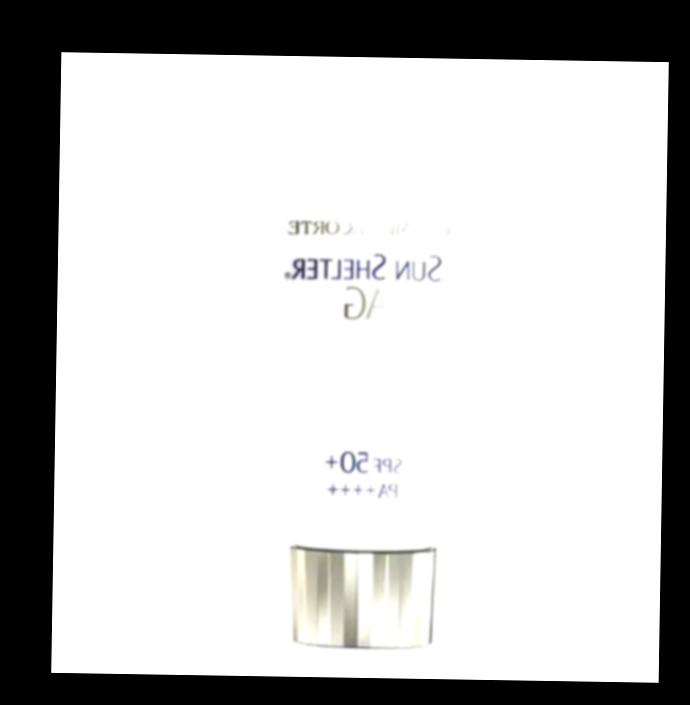cosmetic: (258, 103, 473, 651)
